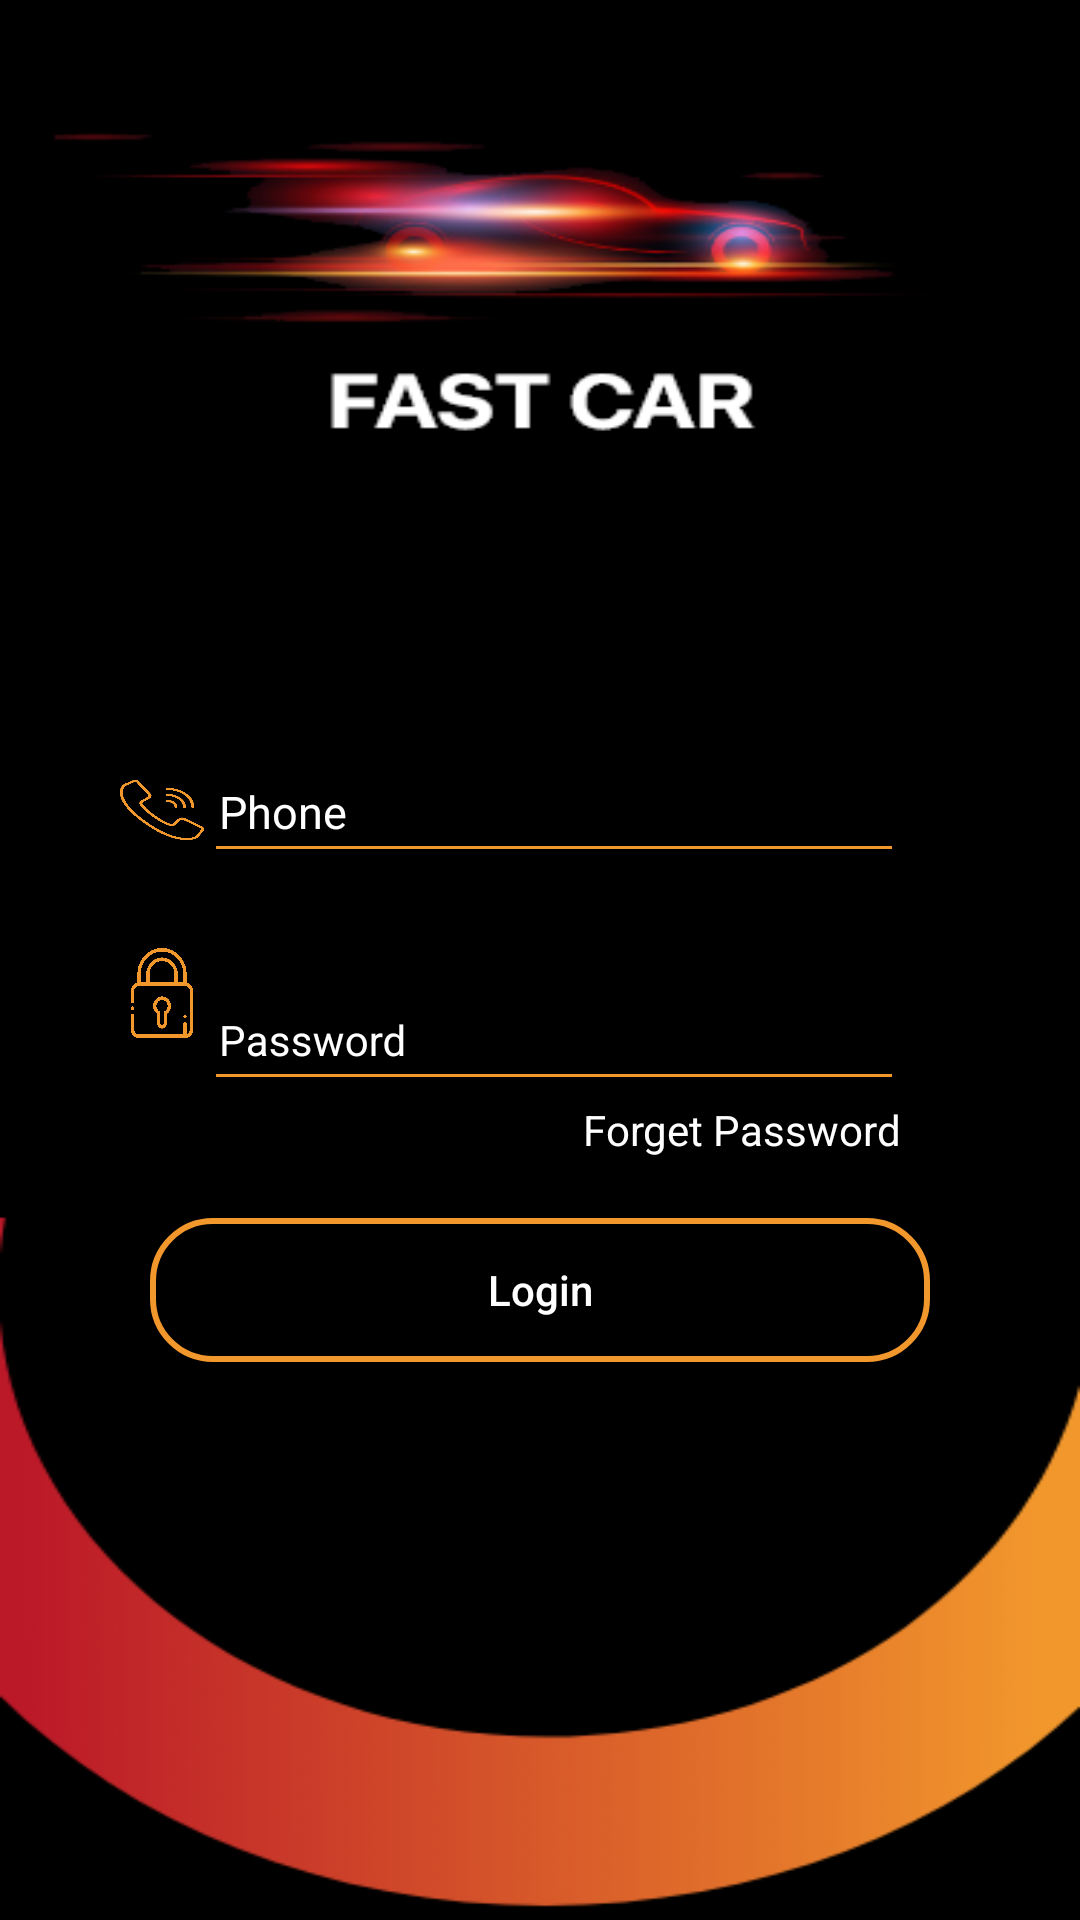

Where to tap for icons on this 1080w x 1920h app screen, as (x,y):
lock: (162,993)
